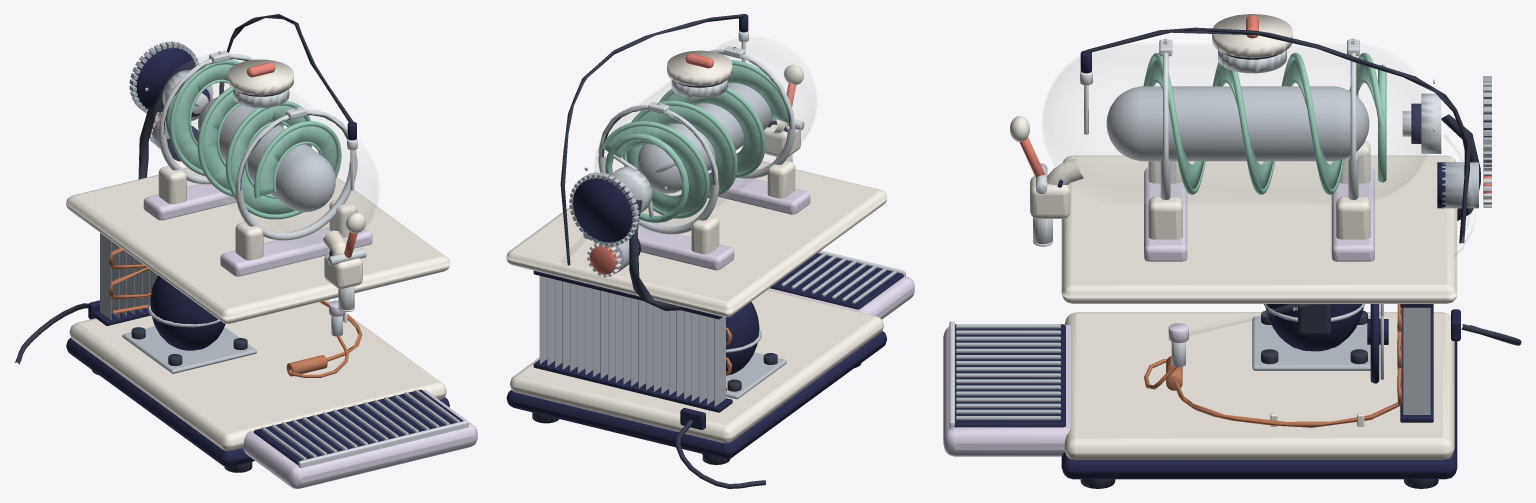
File: slushie-main.glb
3 views of the same model, side by side, from view 1: azimuth 30°, elevation 25°; view 2: azimuth 150°, elevation 25°; view 3: azimuth 270°, elevation 25° (orthographic). The views are drawn at different scales.
Visible parts, largest first — view 1: MESH_CABINET_Enamel_warm_ivory, MESH_AUGER_PIVOT_Polymer_soft_mint, MESH_BOWL_Glass_optically_clear_4mm, MESH_DRIP_TRAY_Enamel_pale_lilac, MESH_EVAPORATOR_DRUM_Metal_satin_aluminium, MESH_CABINET_Enamel_pale_lilac, MESH_DRIP_TRAY_Paint_deep_assembl_navy, MESH_DRIP_TRAY_Metal_satin_aluminium, MESH_CABINET_Paint_deep_assembl_navy, MESH_COMPRESSOR_Paint_deep_assembl_navy, MESH_COMPRESSOR_Metal_satin_aluminium, MESH_CONDENSER_Metal_satin_aluminium (+15 smaller); view 2: MESH_CABINET_Enamel_warm_ivory, MESH_CONDENSER_Metal_satin_aluminium, MESH_AUGER_PIVOT_Polymer_soft_mint, MESH_CABINET_Paint_deep_assembl_navy, MESH_BOWL_Glass_optically_clear_4mm, MESH_CABINET_Enamel_pale_lilac, MESH_EVAPORATOR_DRUM_Metal_satin_aluminium, MESH_AUGER_GEAR_Paint_deep_assembl_navy, MESH_DRIP_TRAY_Paint_deep_assembl_navy, MESH_BOWL_Metal_polished_chrome, MESH_CONDENSER_Paint_deep_assembl_navy, MESH_CABINET_Metal_polished_chrome (+11 smaller); view 3: MESH_CABINET_Enamel_warm_ivory, MESH_BOWL_Glass_optically_clear_4mm, MESH_EVAPORATOR_DRUM_Metal_satin_aluminium, MESH_CABINET_Paint_deep_assembl_navy, MESH_DRIP_TRAY_Metal_satin_aluminium, MESH_AUGER_PIVOT_Polymer_soft_mint, MESH_DRIP_TRAY_Paint_deep_assembl_navy, MESH_DRIP_TRAY_Enamel_pale_lilac, MESH_CABINET_Enamel_pale_lilac, MESH_COMPRESSOR_Metal_satin_aluminium, MESH_CONDENSER_Metal_satin_aluminium, MESH_TEMPERATURE_PROBE_Rubber_soft_dark_navy (+15 smaller).
Boxes of the visible parts, <box> form: MESH_CABINET_Enamel_warm_ivory: <box>66,166,450,450</box>; MESH_AUGER_PIVOT_Polymer_soft_mint: <box>165,59,341,219</box>; MESH_BOWL_Glass_optically_clear_4mm: <box>155,55,378,252</box>; MESH_DRIP_TRAY_Enamel_pale_lilac: <box>242,389,477,488</box>; MESH_EVAPORATOR_DRUM_Metal_satin_aluminium: <box>198,97,335,212</box>; MESH_CABINET_Enamel_pale_lilac: <box>143,184,372,276</box>; MESH_DRIP_TRAY_Paint_deep_assembl_navy: <box>253,389,463,464</box>; MESH_DRIP_TRAY_Metal_satin_aluminium: <box>261,389,459,459</box>; MESH_CABINET_Paint_deep_assembl_navy: <box>66,89,449,466</box>; MESH_COMPRESSOR_Paint_deep_assembl_navy: <box>150,275,225,350</box>; MESH_COMPRESSOR_Metal_satin_aluminium: <box>122,302,256,373</box>; MESH_CONDENSER_Metal_satin_aluminium: <box>100,233,157,319</box>; MESH_CABINET_Enamel_warm_ivory: <box>506,160,887,443</box>; MESH_CONDENSER_Metal_satin_aluminium: <box>539,276,725,406</box>; MESH_AUGER_PIVOT_Polymer_soft_mint: <box>601,60,789,223</box>; MESH_CABINET_Paint_deep_assembl_navy: <box>506,331,886,459</box>; MESH_BOWL_Glass_optically_clear_4mm: <box>595,37,816,233</box>; MESH_CABINET_Enamel_pale_lilac: <box>583,170,810,270</box>; MESH_EVAPORATOR_DRUM_Metal_satin_aluminium: <box>637,82,771,193</box>; MESH_AUGER_GEAR_Paint_deep_assembl_navy: <box>572,177,634,242</box>; MESH_DRIP_TRAY_Paint_deep_assembl_navy: <box>770,253,903,309</box>; MESH_BOWL_Metal_polished_chrome: <box>598,46,794,185</box>; MESH_CONDENSER_Paint_deep_assembl_navy: <box>533,270,732,412</box>; MESH_CABINET_Metal_polished_chrome: <box>584,128,795,234</box>; MESH_CABINET_Enamel_warm_ivory: <box>1061,141,1457,459</box>; MESH_BOWL_Glass_optically_clear_4mm: <box>1043,45,1426,202</box>; MESH_EVAPORATOR_DRUM_Metal_satin_aluminium: <box>1106,86,1369,161</box>; MESH_CABINET_Paint_deep_assembl_navy: <box>1061,103,1460,479</box>; MESH_DRIP_TRAY_Metal_satin_aluminium: <box>955,324,1060,420</box>; MESH_AUGER_PIVOT_Polymer_soft_mint: <box>1143,52,1386,194</box>; MESH_DRIP_TRAY_Paint_deep_assembl_navy: <box>954,324,1065,427</box>; MESH_DRIP_TRAY_Enamel_pale_lilac: <box>943,324,1070,456</box>; MESH_CABINET_Enamel_pale_lilac: <box>1144,167,1374,261</box>; MESH_COMPRESSOR_Metal_satin_aluminium: <box>1252,304,1370,370</box>; MESH_CONDENSER_Metal_satin_aluminium: <box>1380,304,1430,414</box>; MESH_TEMPERATURE_PROBE_Rubber_soft_dark_navy: <box>1085,27,1470,243</box>.
Size of the model in its own units: 0.2655 by 0.3261 by 0.4004.
